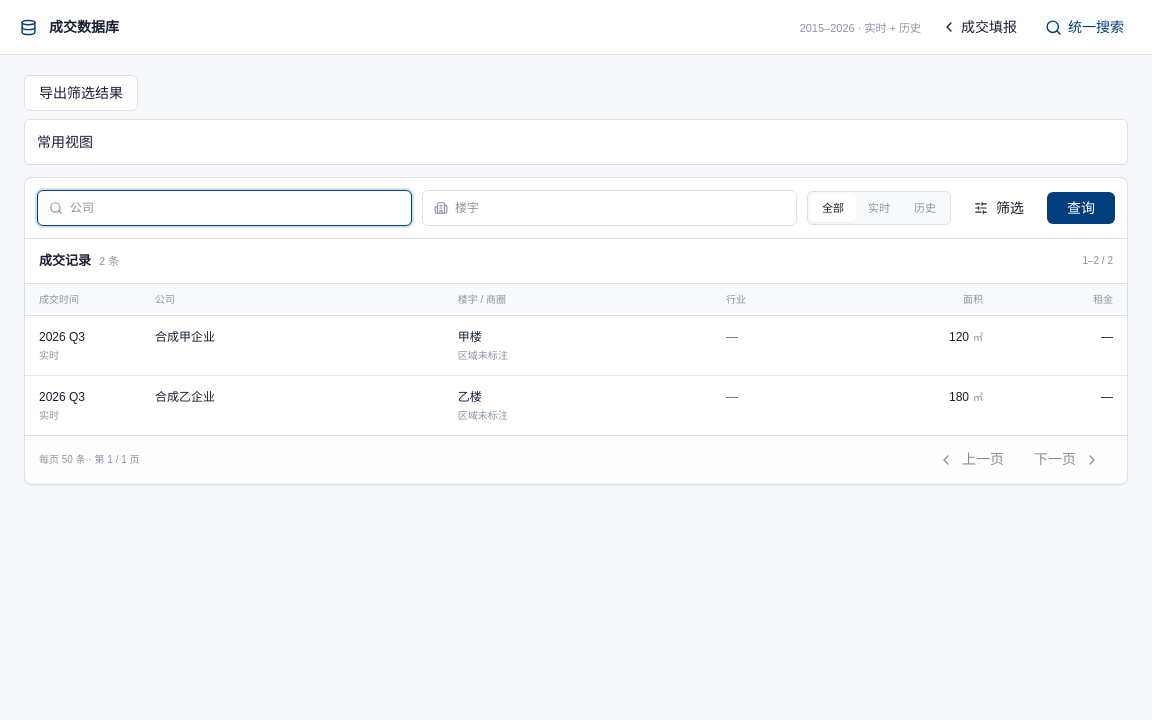
Test: lease history search and focus › preserves the history company input caret and focus when filtered results return
Expected: the text "合成甲企业" is shown, [155,330,215,344]
In the field named "搜索公司名称": (224, 208) [37,190,412,226], type "合成乙"
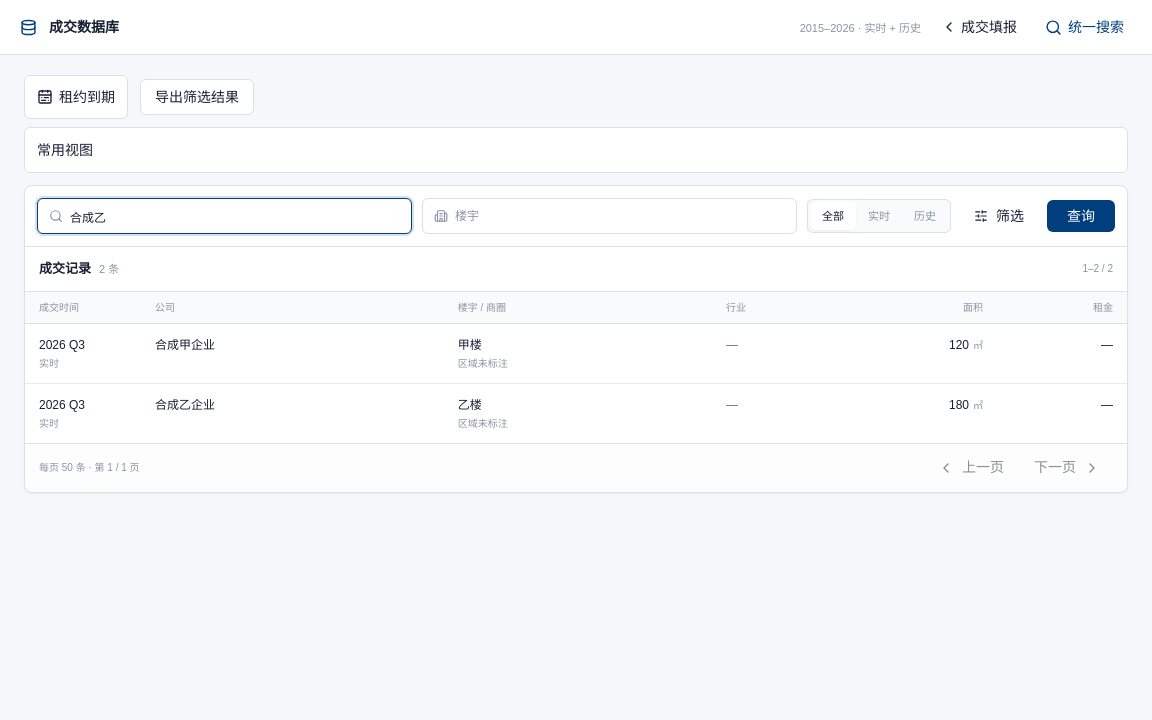
Submit the form named "搜索公司名称", box [25,186,1127,247]
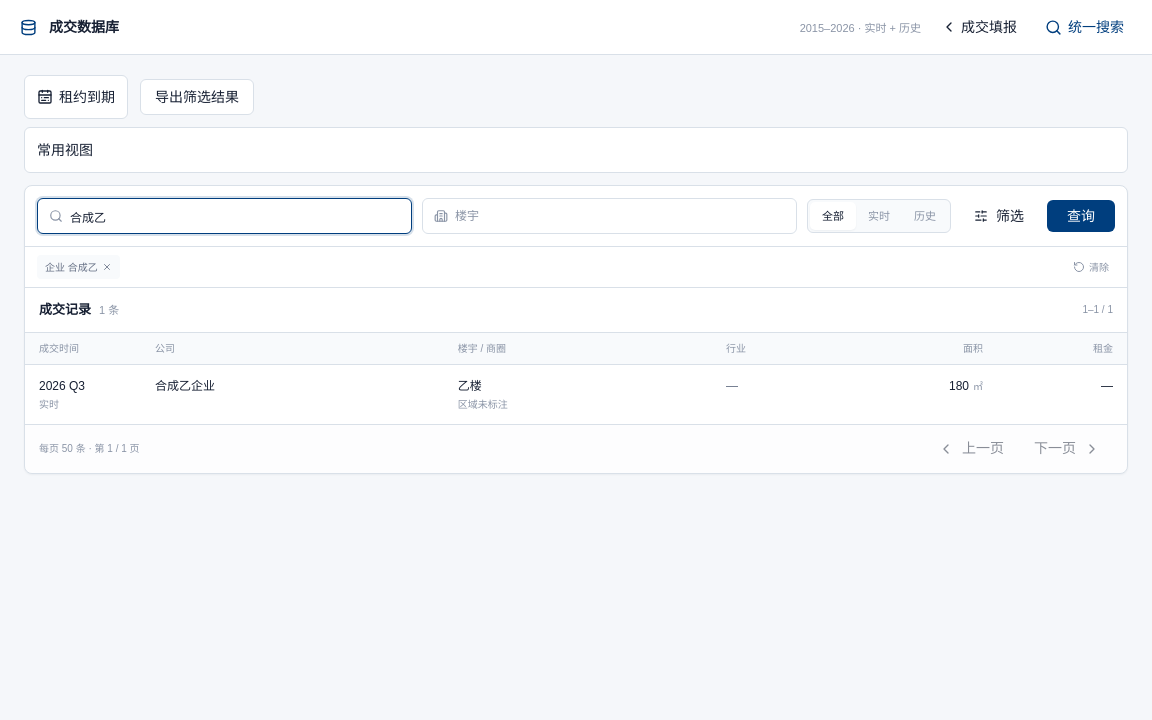
Expected: the text "合成乙企业" is shown, [155,378,215,392]
Now the button "合成甲企业" is gone
